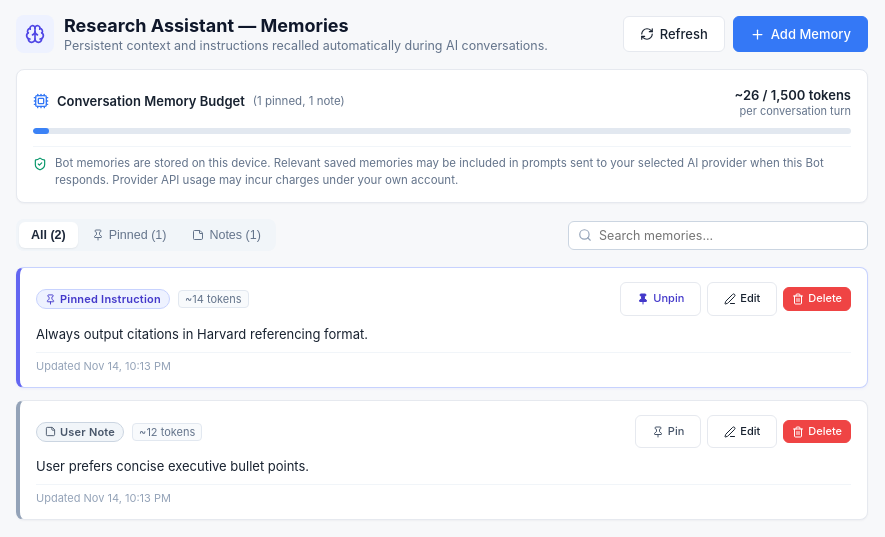
it: Renderer: BotMemorySection (Phase 9 Step 9.3) › 5. allows filtering memories by tab (All, Pinned, Notes) and search query
This screenshot has width=885, height=537.
Expected: the element with test id "bot-memory-card-mem-1" is shown, [16,267,868,388]
Filter by Pinned
Click the tab with test id "tab-memories-pinned".
click(129, 235)  # box [80,222,178,248]
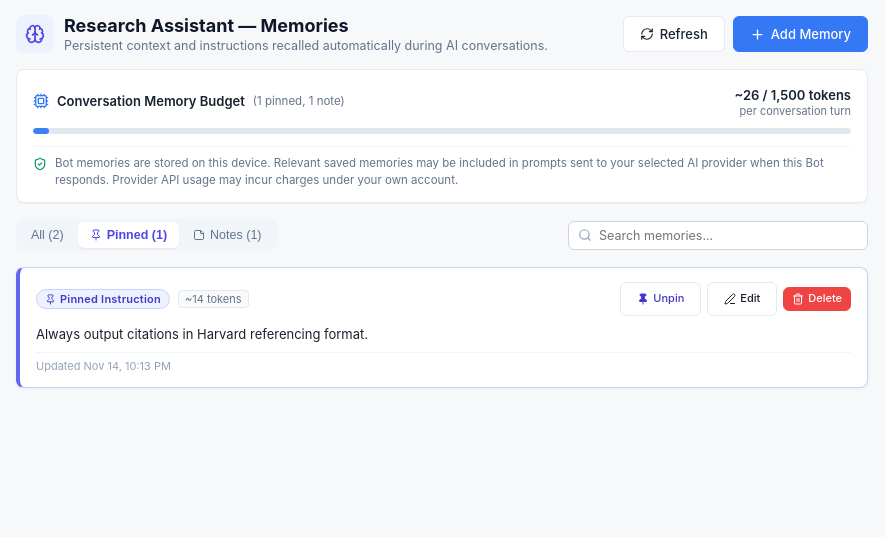
Expected: the element with test id "bot-memory-card-mem-1" is shown, [16,267,868,388]
Expected: the element with test id "bot-memory-card-mem-2" is gone
Filter by Notes
Click the tab with test id "tab-memories-notes".
click(227, 235)  # box [181,222,274,248]
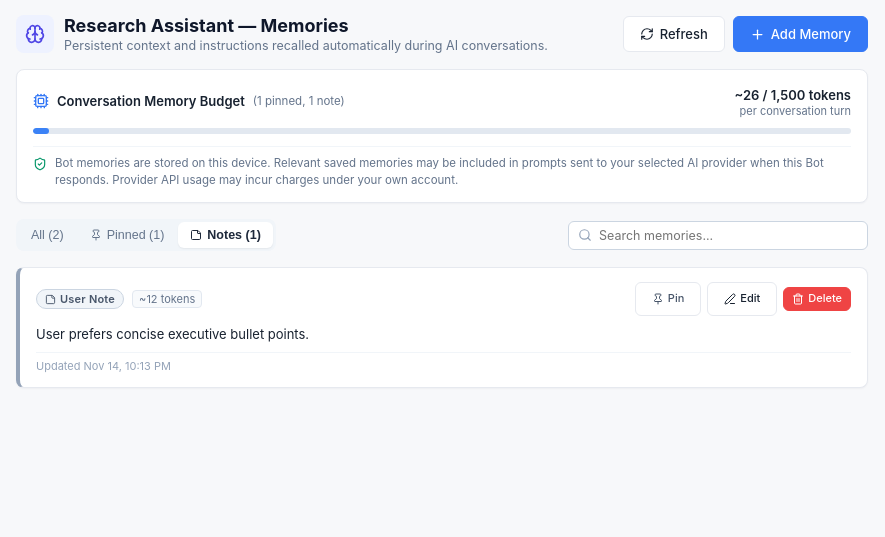
Expected: the element with test id "bot-memory-card-mem-1" is gone
Expected: the element with test id "bot-memory-card-mem-2" is shown, [16,267,868,388]
Back to All
Click the tab with test id "tab-memories-all".
click(47, 235)  # box [19,222,76,248]
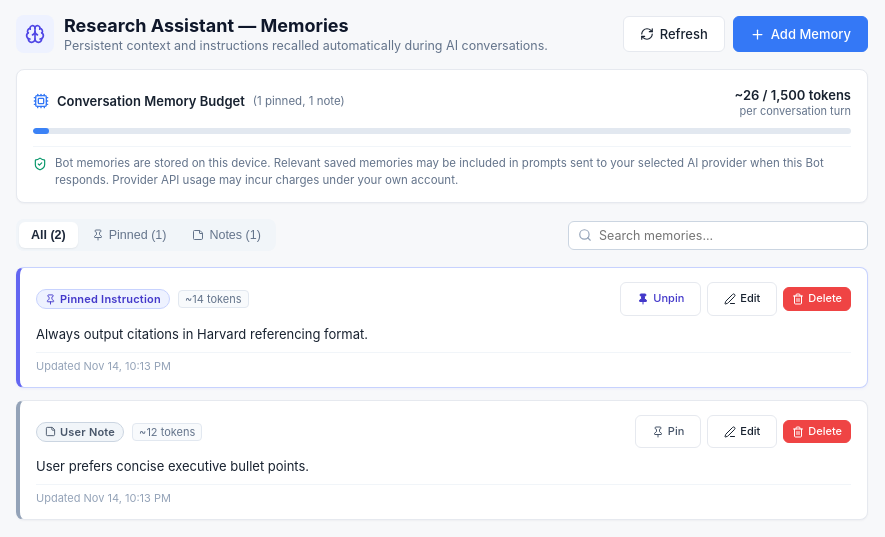
Expected: the element with test id "bot-memory-card-mem-2" is shown, [16,400,868,520]
Expected: the element with test id "bot-memory-card-mem-1" is shown, [16,267,868,388]
Search query
Type "Harvard" into the field with test id "input-search-memories".
click(718, 235); type("Harvard")  # box [568,221,868,250]
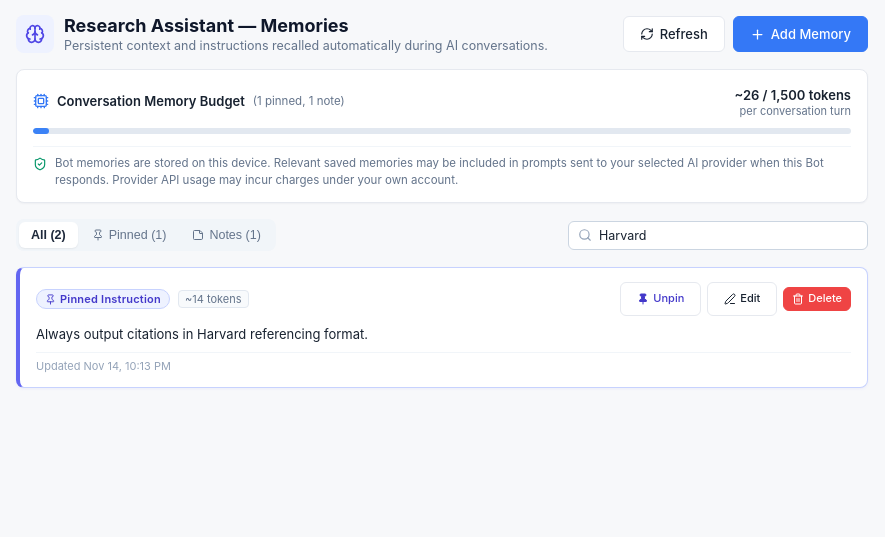
Expected: the element with test id "bot-memory-card-mem-1" is shown, [16,267,868,388]
Expected: the element with test id "bot-memory-card-mem-2" is gone
Clear search
Clear the field with test id "input-search-memories" at (718, 235), box [568,221,868,250]
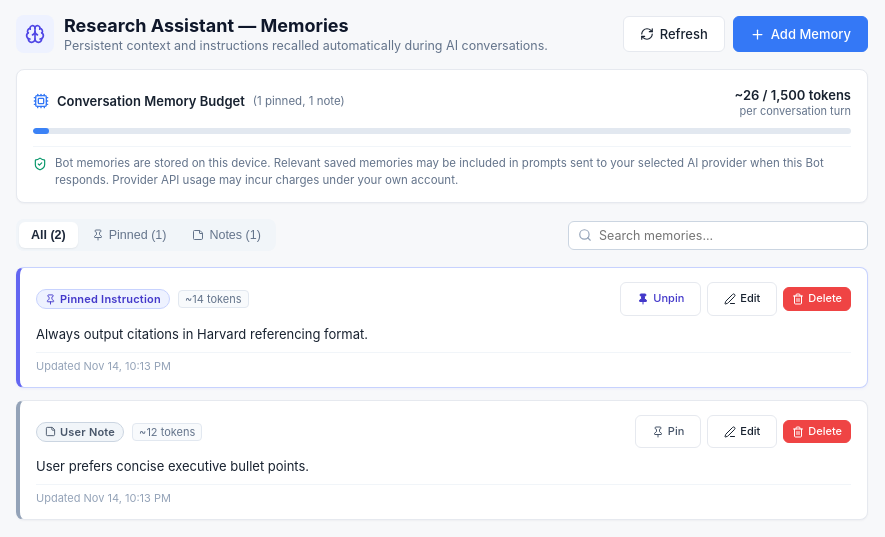
Expected: the element with test id "bot-memory-card-mem-1" is shown, [16,267,868,388]
Expected: the element with test id "bot-memory-card-mem-2" is shown, [16,400,868,520]
